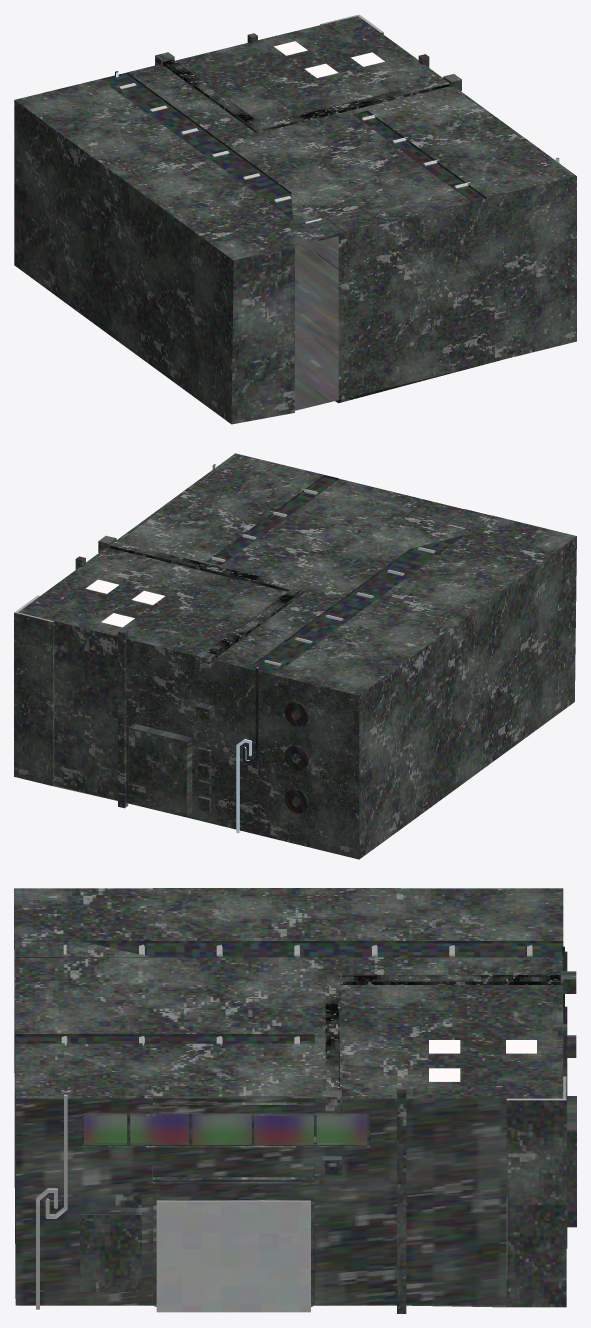
The model's file is Garage.fbx.
3 views of the same model, one above another, from view 1: azimuth 30°, elevation 25°; view 2: azimuth 150°, elevation 25°; view 3: azimuth 270°, elevation 25° (orthographic). The views are drawn at different scales.
Parts seen in each view (by area): view 1: Plane_0, Plane.006_42, Cube.001_43, Cube.009_6; view 2: Plane_0, Plane.006_42, SDC_logo_1, Cube.001_43, Cube.009_6; view 3: Plane_0, Cube_15, Plane.003_4, Plane.006_42, SDC_logo_1, Cube.001_43, Cube.009_6.
Part boxes in pixels (x1=…): Plane_0: x1=14, y1=14, x2=576, y2=424; Plane.006_42: x1=162, y1=59, x2=449, y2=181; Cube.001_43: x1=274, y1=41, x2=384, y2=78; Cube.009_6: x1=119, y1=83, x2=471, y2=223; Plane_0: x1=14, y1=453, x2=576, y2=859; Plane.006_42: x1=109, y1=541, x2=307, y2=657; SDC_logo_1: x1=212, y1=464, x2=259, y2=833; Cube.001_43: x1=85, y1=579, x2=164, y2=627; Cube.009_6: x1=190, y1=488, x2=464, y2=665; Plane_0: x1=14, y1=888, x2=576, y2=1313; Cube_15: x1=156, y1=1200, x2=310, y2=1312; Plane.003_4: x1=84, y1=1113, x2=367, y2=1144; Plane.006_42: x1=325, y1=975, x2=560, y2=1090; SDC_logo_1: x1=36, y1=946, x2=564, y2=1309; Cube.001_43: x1=429, y1=1040, x2=536, y2=1081; Cube.009_6: x1=61, y1=944, x2=532, y2=1045.
Size of the model in its own units: 910 by 436 by 1008.
